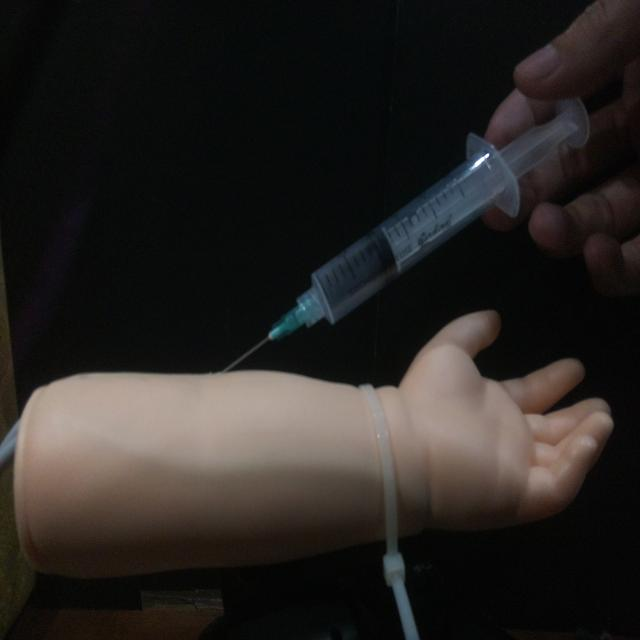20deg: (212, 92, 592, 375)
